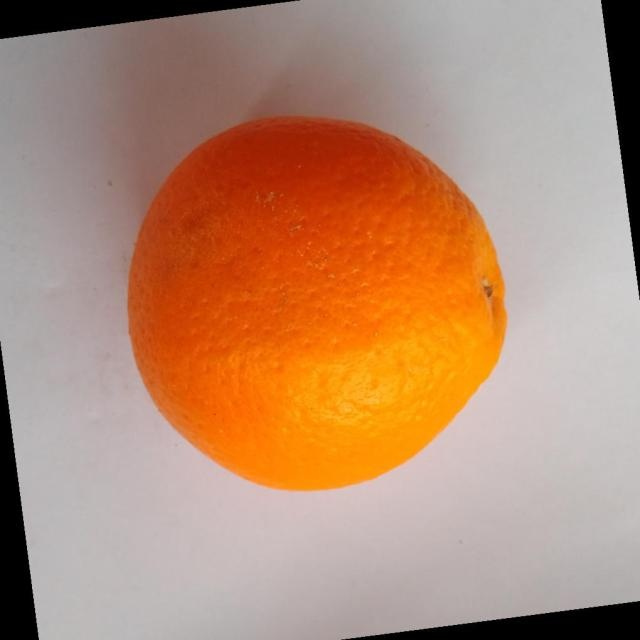agrume: (126, 113, 508, 492)
